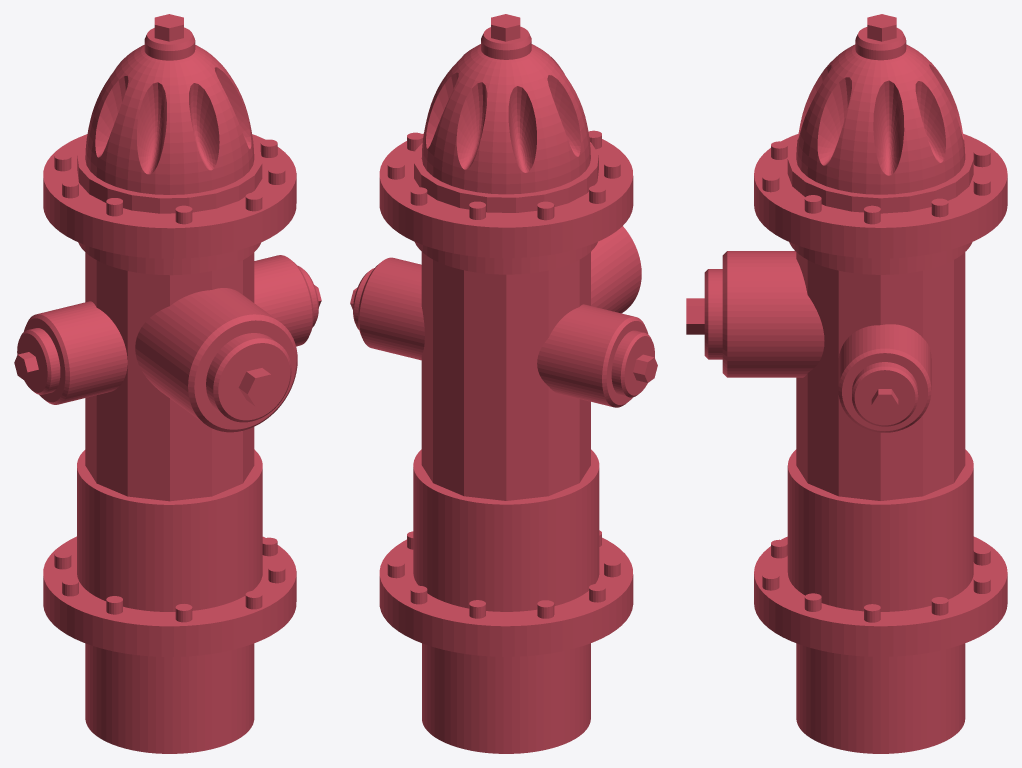
Rendered from Hydrant red.glb.
3 views of the same model, side by side, from view 1: azimuth 30°, elevation 25°; view 2: azimuth 150°, elevation 25°; view 3: azimuth 270°, elevation 25° (orthographic).
Visible parts, largest first — view 1: Mesh_Mesh_head_geo.001_lambert2SG.001; view 2: Mesh_Mesh_head_geo.001_lambert2SG.001; view 3: Mesh_Mesh_head_geo.001_lambert2SG.001.
Boxes of the visible parts, <box> form: Mesh_Mesh_head_geo.001_lambert2SG.001: <box>14,14,321,753</box>; Mesh_Mesh_head_geo.001_lambert2SG.001: <box>350,14,657,753</box>; Mesh_Mesh_head_geo.001_lambert2SG.001: <box>686,14,1007,753</box>.
Bounding box in the file's own units: 40.22 × 91 × 38.
